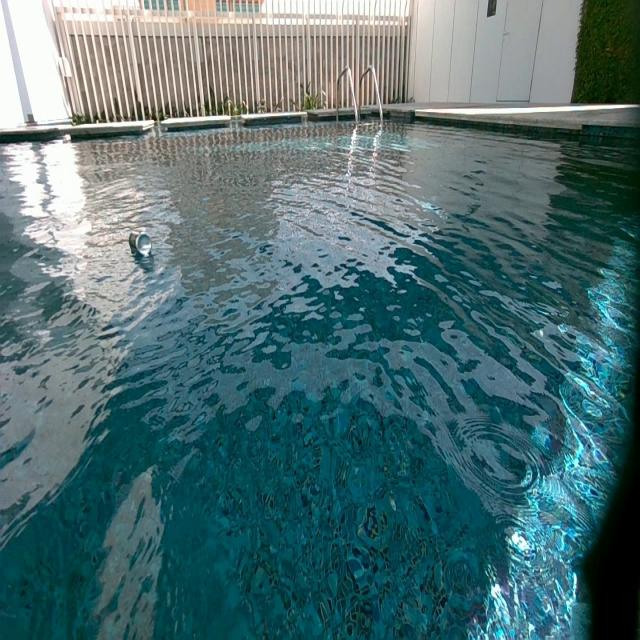Cans: (129, 230, 152, 258)
